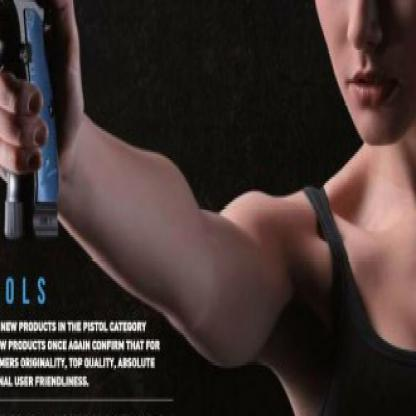gun: (0, 0, 88, 271)
